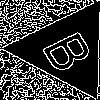B: (41, 24, 100, 76)
